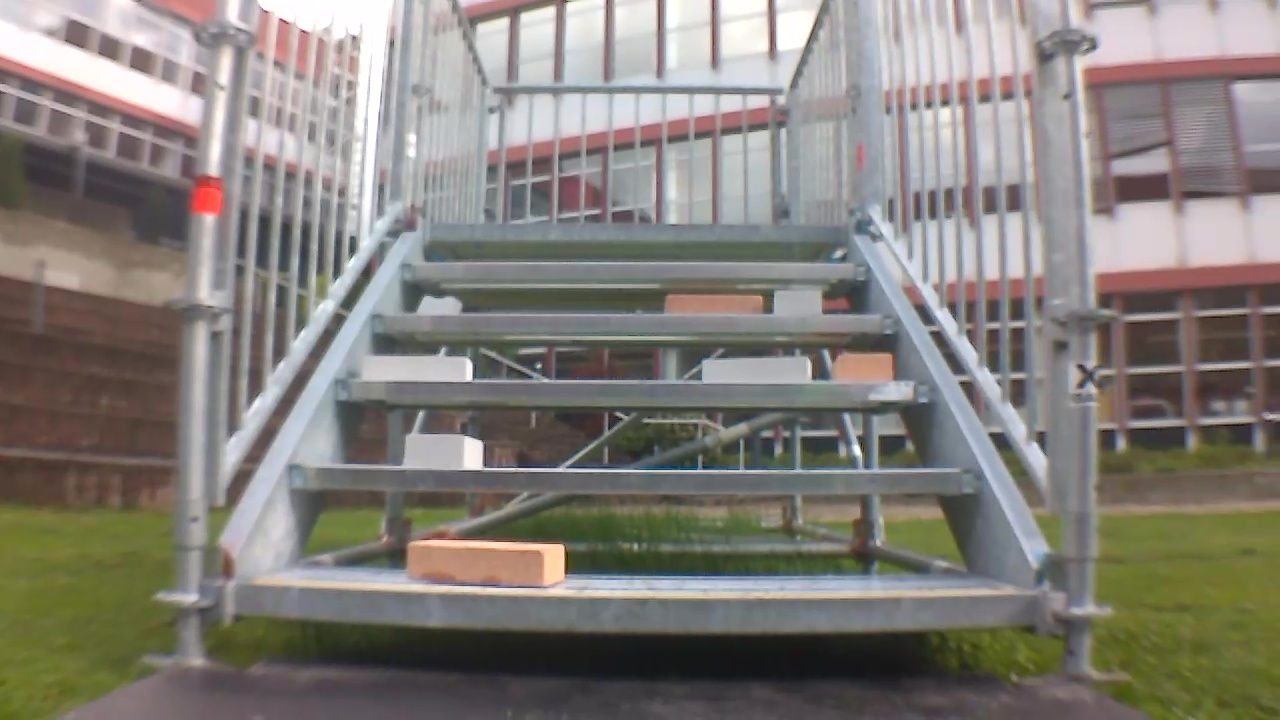brick: (407, 539, 563, 587), (363, 356, 471, 381), (406, 435, 481, 469), (702, 357, 811, 380), (666, 295, 761, 313), (833, 352, 890, 380), (774, 291, 820, 315)
edge: (237, 582, 1033, 633), (288, 465, 980, 492), (336, 378, 932, 405), (373, 313, 896, 334), (431, 222, 845, 241), (401, 262, 866, 278)
stairs: (176, 2, 1119, 676)
steps: (222, 217, 1038, 644)
